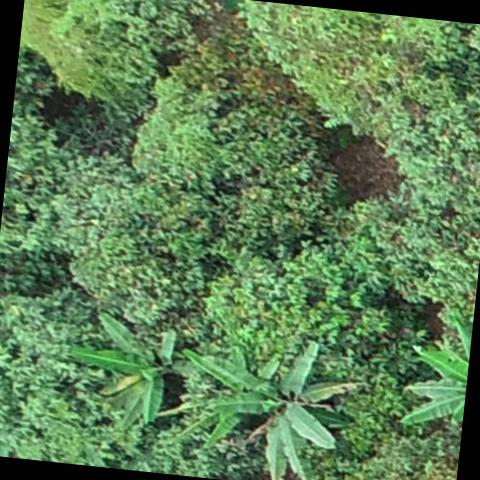Banana-plant: (173, 325, 371, 480), (147, 330, 283, 456), (58, 308, 181, 428)
